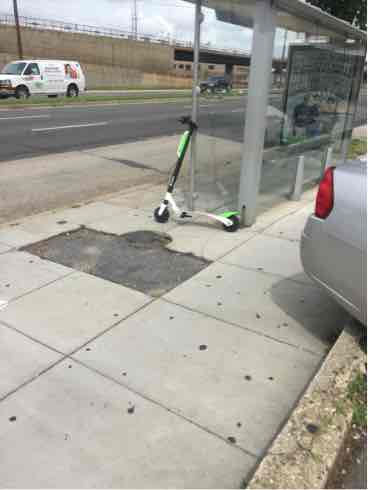scooter: (150, 108, 247, 239)
